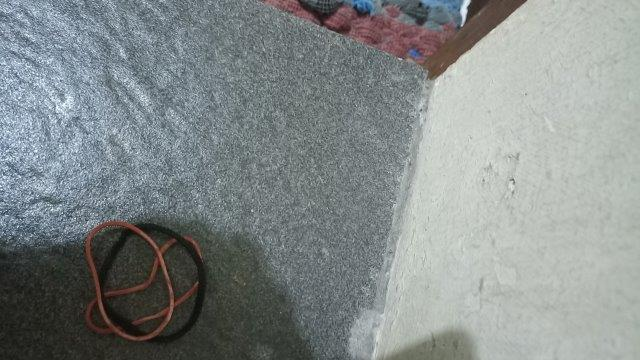karet: (85, 221, 206, 346)
